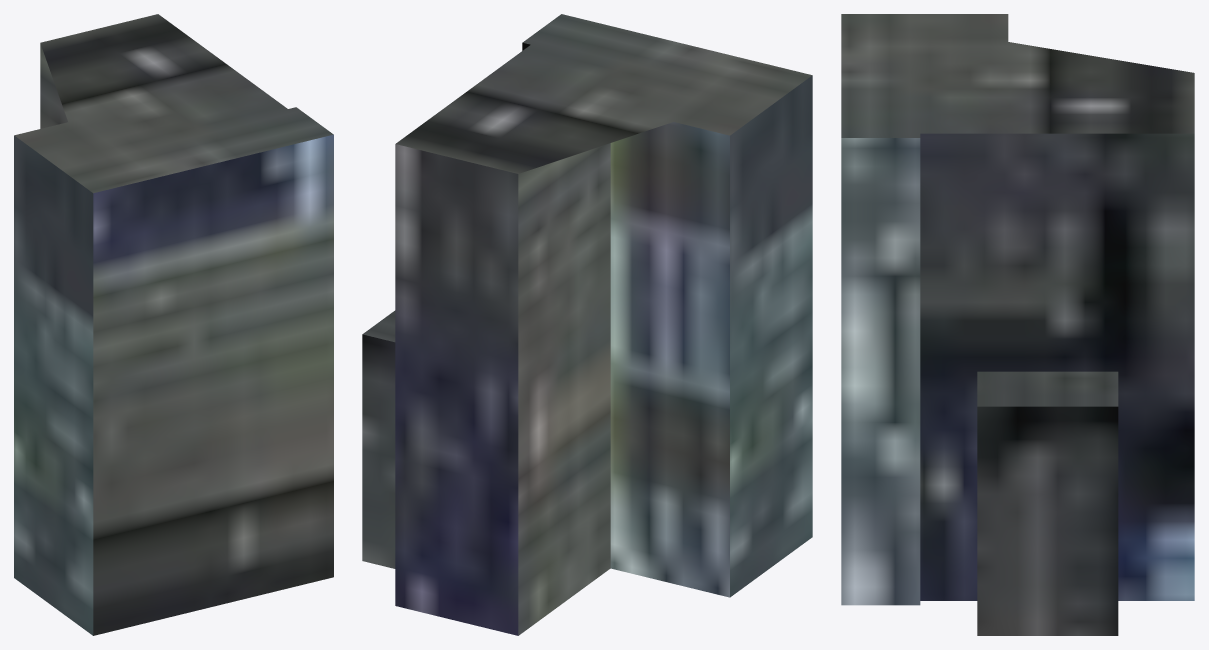
The model's file is night-9.glb.
The picture shows the model from 3 angles, left to right: view 1: azimuth 30°, elevation 25°; view 2: azimuth 150°, elevation 25°; view 3: azimuth 270°, elevation 25°; orthographic projection. The views are drawn at different scales.
Size of the model in its own units: 3.68 by 5.19 by 3.56.
Materials: 1 (1 with a texture image).
